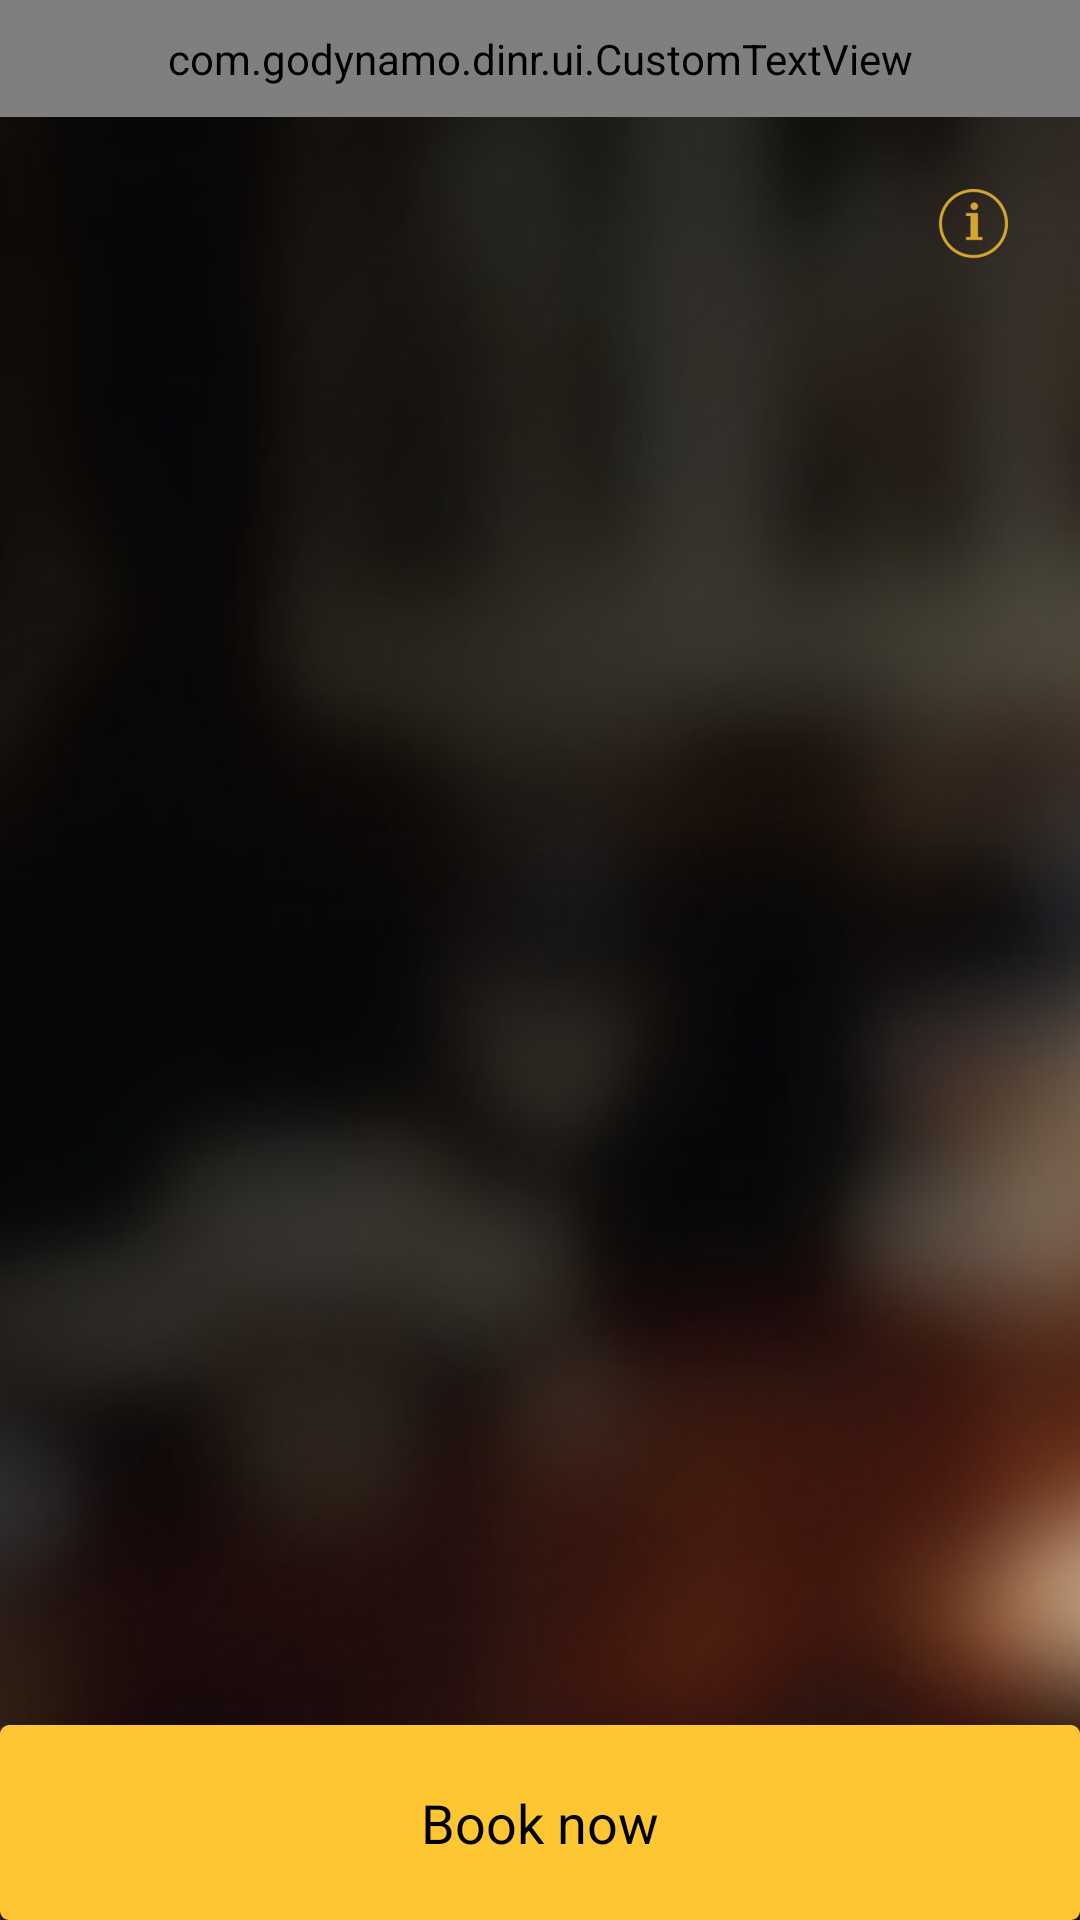

Named icons in this screenshot (1080x1920) and their centers, (x=x, y=y):
information: (x=973, y=223)
